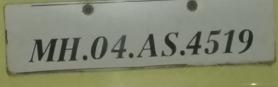0: (88, 33, 109, 62)
1: (223, 29, 236, 56)
4: (183, 27, 203, 58), (111, 34, 129, 61)
5: (206, 28, 222, 58)
9: (238, 27, 257, 57)
A: (136, 30, 159, 61)
H: (59, 35, 80, 64)
M: (27, 35, 58, 66)
S: (162, 30, 179, 59)
